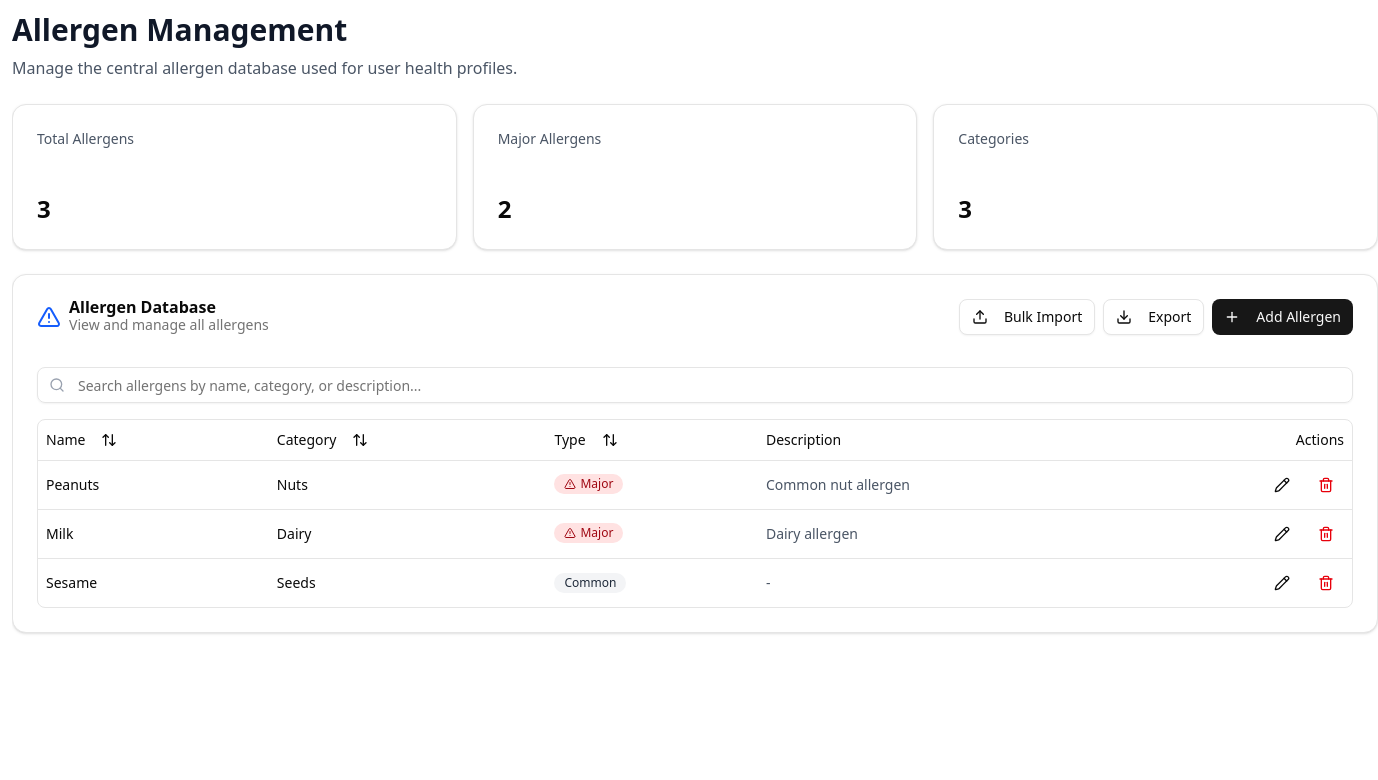
Test: AllergenManagement › filters allergens based on search input
The image size is (1378, 780).
Expected: the text "Peanuts" is shown, [46,474,99,494]
Expected: the text "Milk" is shown, [46,524,73,542]
Type "Peanuts" into the field with placeholder "Search allergens by name, category, or description...".
click(695, 385); type("Peanuts")  # box [37,367,1353,403]
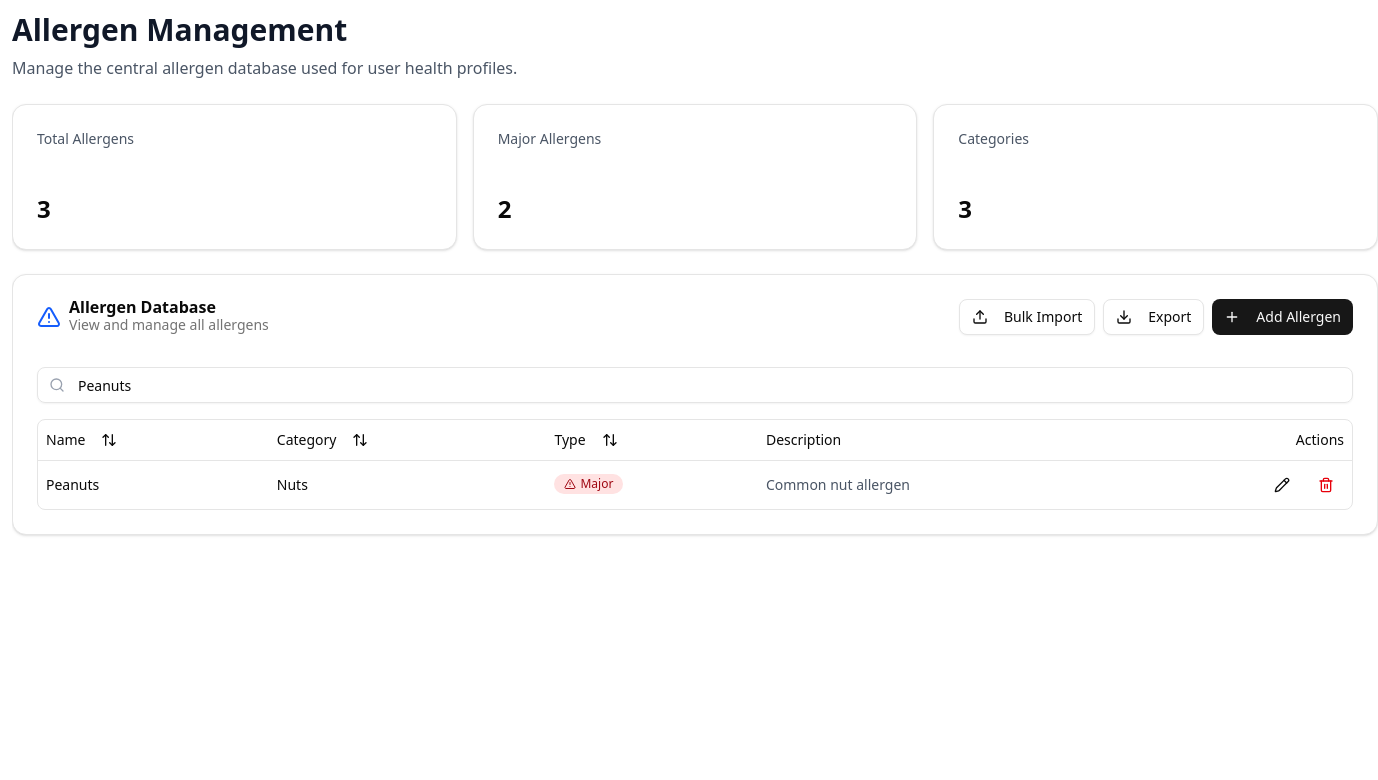
Expected: the text "Peanuts" is shown, [46,474,99,494]
Expected: the text "Milk" is gone
Expected: the text "Sesame" is gone
